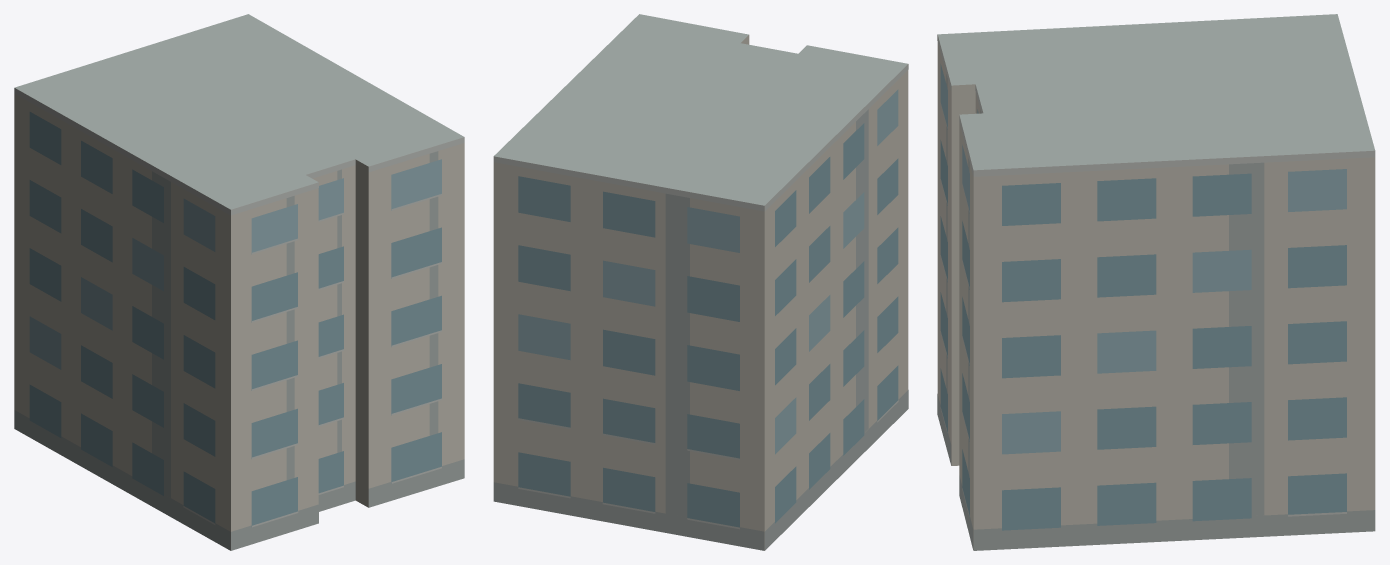
File: survey-upis-32885719.glb
3 views of the same model, side by side, from view 1: azimuth 30°, elevation 25°; view 2: azimuth 150°, elevation 25°; view 3: azimuth 270°, elevation 25° (orthographic). The views are drawn at different scales.
Visible parts, largest first — view 1: survey-upis-32885719.tmp; view 2: survey-upis-32885719.tmp; view 3: survey-upis-32885719.tmp.
Boxes of the visible parts, x1,y1,x2,y2 form: survey-upis-32885719.tmp: (14, 14, 464, 550); survey-upis-32885719.tmp: (493, 14, 908, 550); survey-upis-32885719.tmp: (937, 14, 1375, 550).
Bounding box in the file's own units: 12.52 × 14.2 × 14.81.
